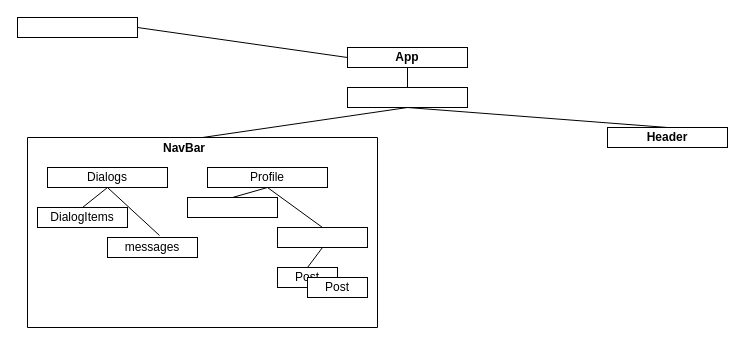
Some shapes in this 745 by 345 pixel diagram are drawn without their labels. Here are the shapes that lost their labels. From the top down, the box of each, then its label:
(16, 16, 138, 38): INDEX.JS
(346, 86, 468, 108): BrowserRouter
(186, 196, 278, 218): ProfileInfo
(276, 226, 368, 248): MyPosts
